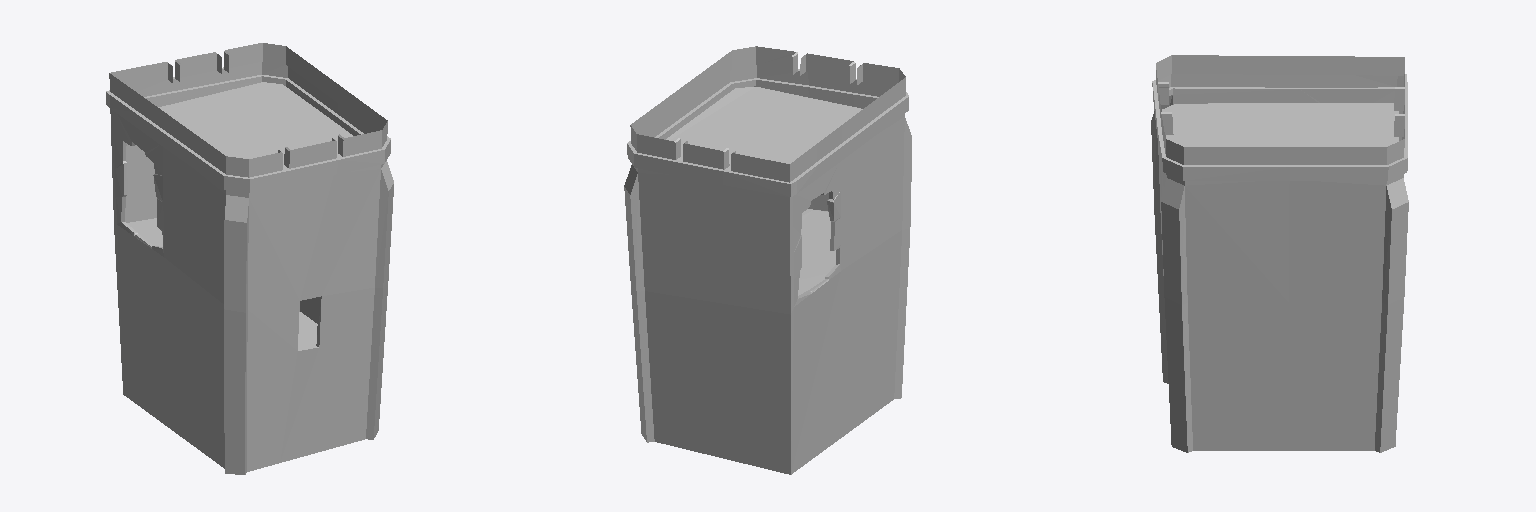
Rendered from MDL_Turret_Main.obj.
The picture shows the model from 3 angles: view 1: azimuth 30°, elevation 25°; view 2: azimuth 150°, elevation 25°; view 3: azimuth 270°, elevation 25°; orthographic projection.
Visible parts, largest first — view 1: MDL_Turret_Main; view 2: MDL_Turret_Main; view 3: MDL_Turret_Main.
Part boxes in pixels (left/top/right/bottom): MDL_Turret_Main: left=106, top=43, right=393, bottom=474; MDL_Turret_Main: left=624, top=46, right=911, bottom=474; MDL_Turret_Main: left=1151, top=55, right=1408, bottom=452.
Bounding box in the file's own units: 24.53 × 42.58 × 31.14.